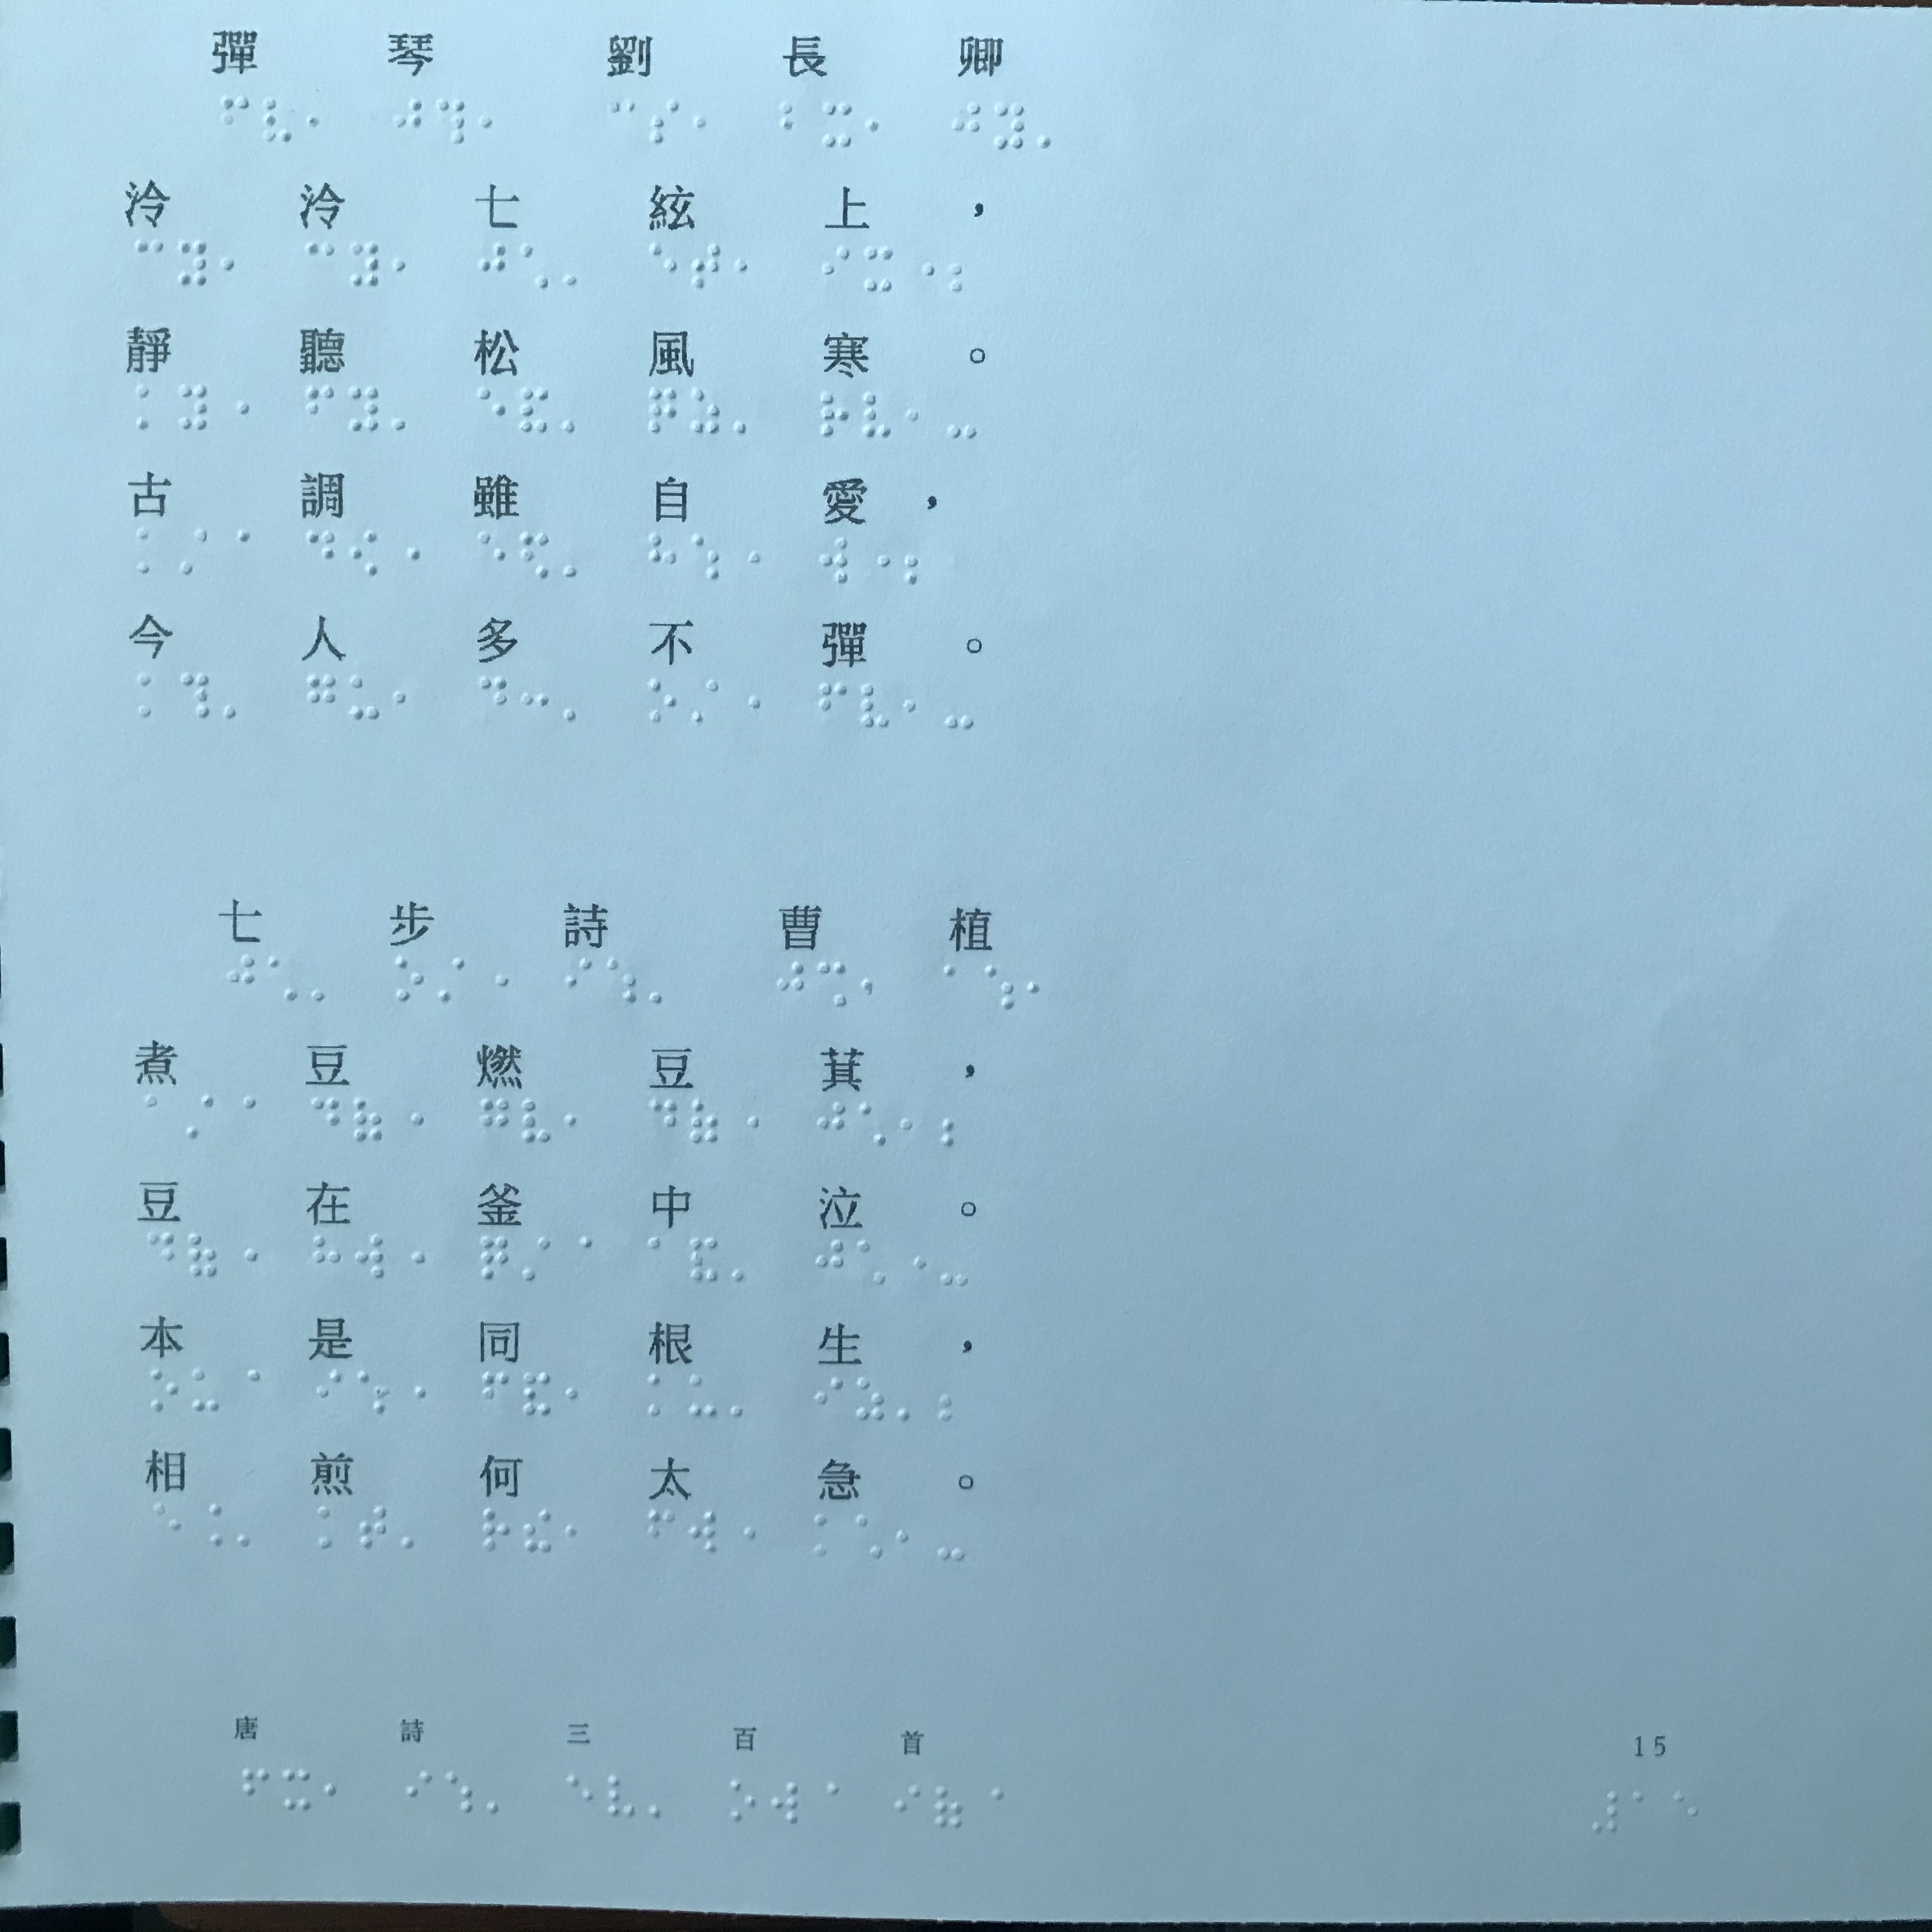Braille: (389, 94, 425, 150), (862, 386, 897, 442), (517, 380, 552, 435), (435, 96, 469, 152), (817, 386, 853, 439), (191, 1361, 223, 1419), (262, 92, 295, 147), (149, 1362, 182, 1417), (991, 103, 1028, 152), (520, 527, 552, 584), (134, 384, 170, 433), (646, 529, 681, 579), (476, 674, 511, 724), (179, 382, 211, 437), (932, 1782, 966, 1833), (189, 1226, 219, 1283), (303, 384, 338, 432), (349, 382, 380, 435), (948, 386, 980, 439), (306, 671, 338, 724), (350, 672, 382, 725), (607, 952, 639, 1005), (230, 1364, 262, 1417), (950, 101, 984, 150), (304, 237, 338, 287), (350, 239, 382, 290), (520, 241, 552, 292), (901, 536, 932, 587), (814, 1097, 846, 1148), (646, 1233, 678, 1284), (354, 1366, 386, 1417), (478, 239, 511, 287), (819, 242, 853, 290), (948, 244, 982, 292), (648, 678, 681, 725), (817, 961, 851, 1008), (478, 1235, 511, 1283), (389, 380, 418, 437), (908, 386, 936, 442), (230, 1230, 258, 1286), (692, 239, 722, 292), (138, 525, 168, 579), (984, 961, 1014, 1014), (690, 1235, 720, 1288), (858, 1237, 888, 1290), (939, 1235, 970, 1288), (218, 94, 249, 143), (865, 242, 897, 292), (219, 525, 251, 575), (349, 529, 380, 579), (731, 531, 763, 580), (817, 681, 849, 731), (945, 681, 977, 731), (520, 1097, 552, 1146), (522, 1233, 554, 1283), (692, 529, 720, 584), (391, 672, 419, 727), (690, 1504, 718, 1559), (607, 92, 637, 143), (824, 99, 855, 150), (134, 234, 165, 285), (393, 239, 423, 290), (692, 386, 722, 437), (306, 527, 336, 579), (474, 529, 504, 580), (860, 536, 890, 587), (180, 671, 211, 722), (225, 950, 255, 1001), (941, 961, 971, 1012), (651, 97, 683, 145), (1039, 106, 1070, 154), (175, 239, 207, 287), (437, 954, 469, 1001), (308, 1095, 340, 1143), (354, 1095, 386, 1143), (478, 1095, 510, 1143), (686, 1373, 718, 1421), (858, 1376, 890, 1424), (357, 1504, 389, 1552), (281, 1764, 313, 1812), (605, 1771, 637, 1819), (865, 99, 895, 149), (651, 241, 681, 290), (179, 527, 209, 577), (520, 676, 550, 725), (265, 954, 295, 1003), (731, 1099, 761, 1148), (897, 1237, 927, 1286), (223, 382, 249, 437), (941, 1097, 968, 1152), (729, 1507, 755, 1562), (1594, 1787, 1621, 1842), (734, 241, 763, 292), (908, 242, 936, 294), (479, 386, 508, 437), (651, 386, 679, 437), (563, 531, 591, 582), (821, 536, 849, 587), (692, 1097, 720, 1148), (858, 1099, 886, 1150), (311, 1233, 340, 1284), (977, 1782, 1005, 1833), (778, 97, 809, 145), (692, 679, 722, 727), (858, 683, 888, 731), (522, 1371, 552, 1419), (938, 1514, 968, 1562), (897, 1099, 924, 1152), (731, 1233, 757, 1286), (1635, 1785, 1661, 1838), (306, 96, 334, 145), (734, 389, 763, 439), (221, 676, 249, 725), (734, 678, 763, 727), (483, 955, 511, 1005), (189, 1092, 218, 1141), (230, 1092, 258, 1141), (147, 1228, 175, 1277), (357, 1233, 386, 1283), (773, 1778, 801, 1828), (393, 955, 423, 1001), (564, 954, 594, 1000), (777, 961, 807, 1007), (481, 1366, 511, 1412), (814, 1375, 844, 1421), (193, 1500, 223, 1546), (444, 1771, 474, 1817), (729, 1778, 759, 1824), (563, 386, 589, 437), (395, 531, 421, 582), (525, 1504, 552, 1555), (855, 1513, 881, 1564), (897, 1780, 924, 1831), (219, 239, 248, 287), (564, 242, 593, 290), (563, 679, 594, 722), (143, 1090, 172, 1138), (651, 1097, 679, 1145), (817, 1237, 846, 1284), (731, 1373, 759, 1421), (648, 1507, 676, 1555), (938, 1380, 968, 1424), (239, 1766, 269, 1810), (809, 1782, 839, 1826), (478, 96, 504, 145), (694, 94, 718, 147), (138, 671, 165, 720), (902, 681, 929, 731), (563, 1095, 589, 1145), (564, 1231, 591, 1281), (400, 1504, 426, 1553), (895, 1511, 920, 1564), (311, 955, 340, 1001), (395, 1097, 423, 1143), (644, 1373, 672, 1419), (317, 1507, 345, 1553), (566, 1771, 594, 1817), (649, 957, 676, 1005), (154, 1499, 180, 1546), (398, 1371, 426, 1415), (1672, 1792, 1700, 1836), (400, 1233, 425, 1283), (563, 1504, 587, 1553), (863, 964, 890, 1010), (405, 1766, 432, 1812), (1026, 964, 1051, 1012), (318, 1366, 343, 1414), (814, 1511, 839, 1559), (897, 1380, 924, 1424), (235, 1504, 262, 1548), (566, 1373, 591, 1419), (485, 1507, 510, 1553), (648, 1775, 672, 1821), (322, 1769, 347, 1808), (485, 1776, 508, 1817)
